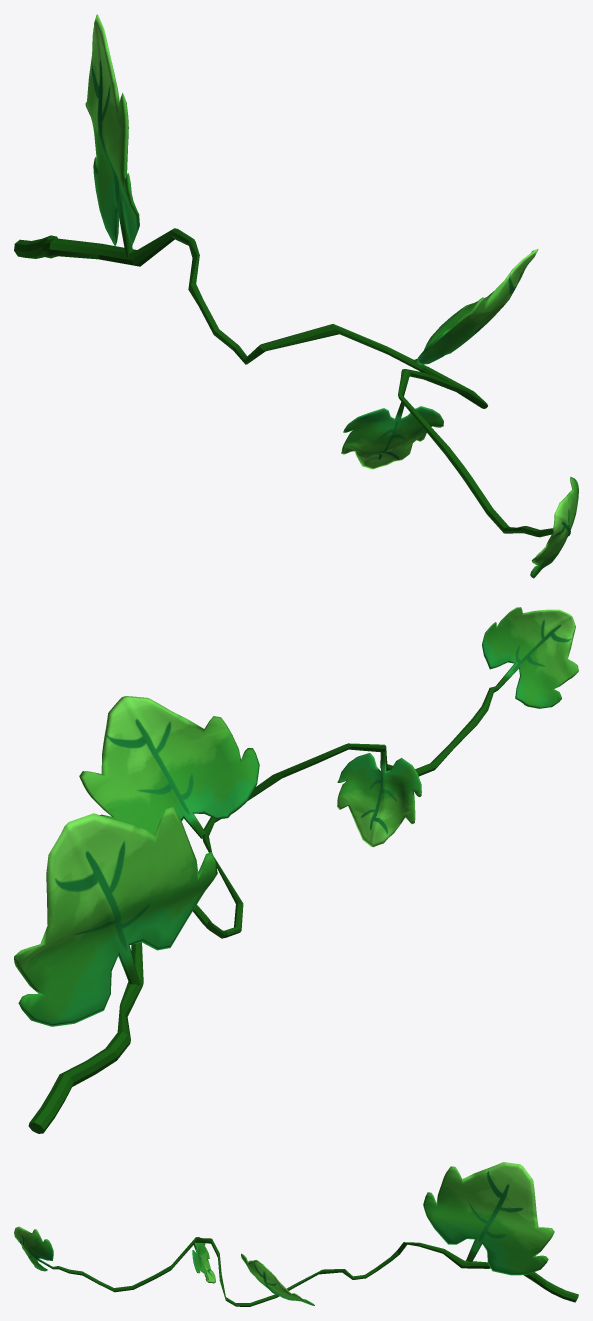
The model's file is Veg_Calabacin_S.fbx.
3 views of the same model, one above another, from view 1: azimuth 30°, elevation 25°; view 2: azimuth 150°, elevation 25°; view 3: azimuth 270°, elevation 25° (orthographic). The views are drawn at different scales.
Visible parts, largest first — view 1: hoja1; view 2: hoja1; view 3: hoja1.
Boxes of the visible parts, x1=… form: hoja1: x1=14, y1=14, x2=578, y2=578; hoja1: x1=14, y1=607, x2=578, y2=1133; hoja1: x1=14, y1=1162, x2=578, y2=1306.
Size of the model in its own units: 34.33 by 9.55 by 9.61.
